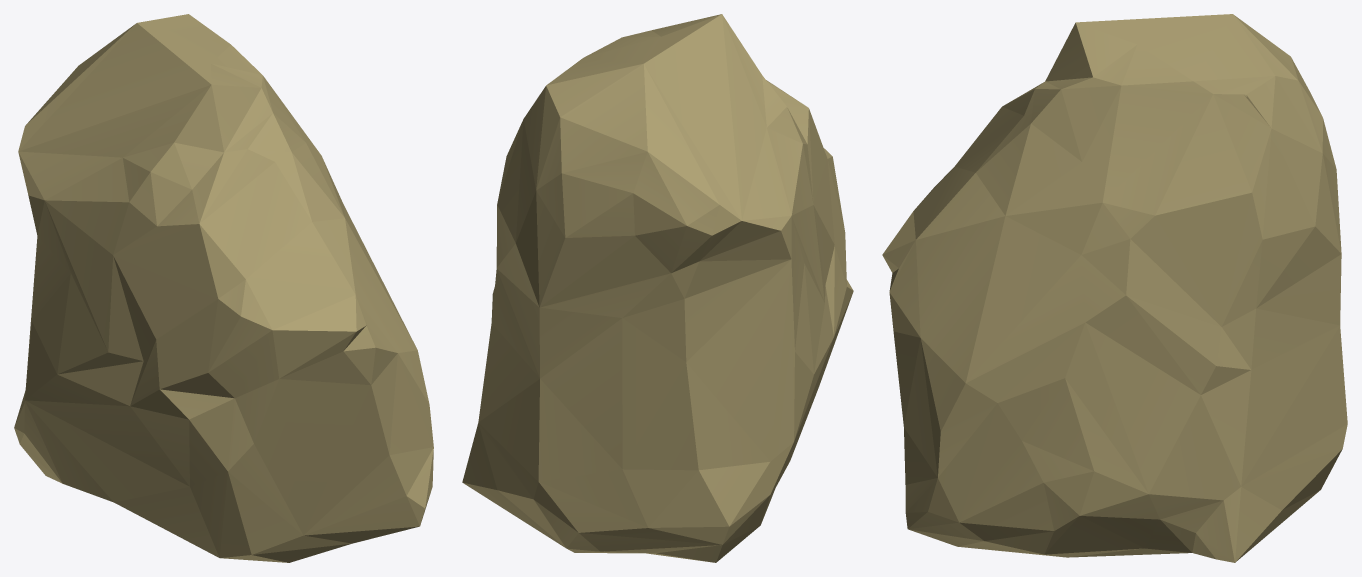
Rendered from SM_rock_83.fbx.
3 renders of one model, left to right at view 1: azimuth 30°, elevation 25°; view 2: azimuth 150°, elevation 25°; view 3: azimuth 270°, elevation 25°, orthographic. The views are drawn at different scales.
Visible parts, largest first — view 1: rock_83; view 2: rock_83; view 3: rock_83.
Boxes of the visible parts, x1,y1,x2,y2 form: rock_83: (14, 14, 433, 562); rock_83: (462, 14, 853, 562); rock_83: (882, 14, 1347, 562).
Bounding box in the file's own units: 73.35 × 105 × 91.88.
